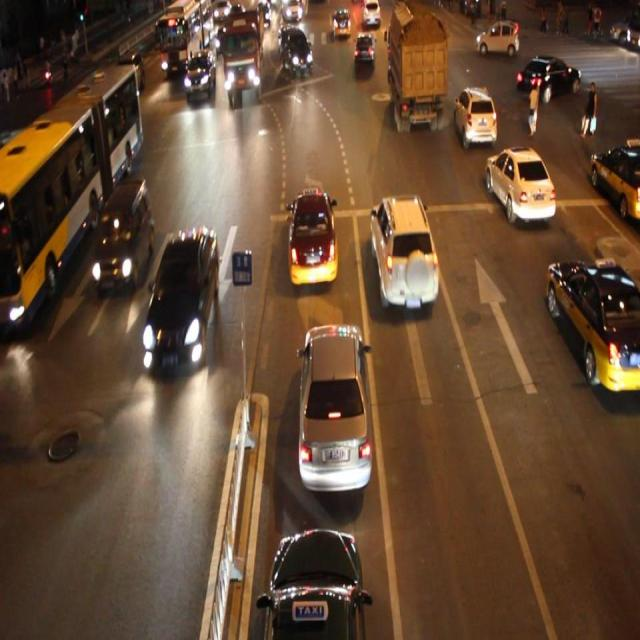bus: (388, 10, 445, 131), (222, 7, 264, 100)
car: (297, 319, 373, 495), (546, 259, 640, 390), (260, 526, 367, 640), (140, 226, 218, 373), (369, 194, 438, 310), (484, 148, 553, 221), (287, 188, 339, 284), (515, 54, 580, 104), (454, 84, 496, 146), (93, 79, 131, 133), (182, 48, 216, 101), (280, 28, 314, 75), (114, 53, 145, 95), (353, 34, 376, 68)
truck: (94, 178, 155, 292)
van: (1, 66, 142, 330), (157, 1, 213, 70)
